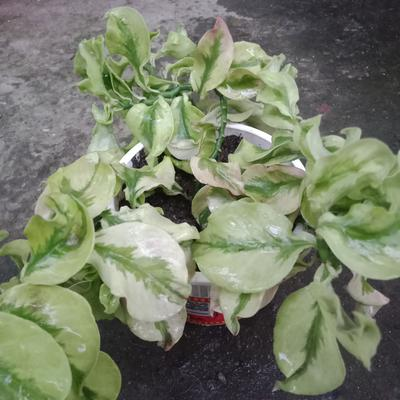Pothos plant: (50, 50, 380, 317)
